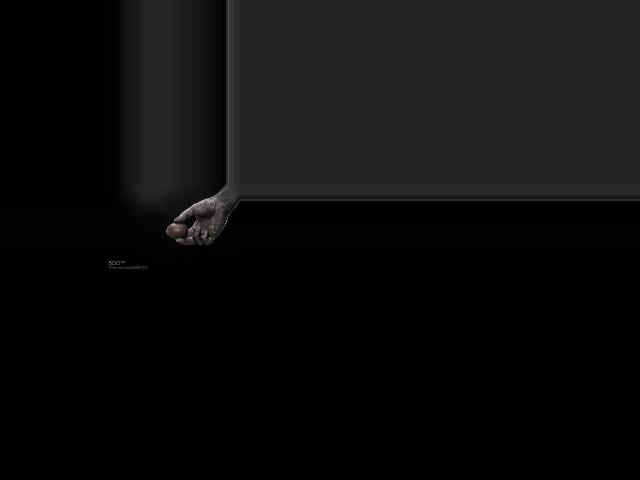egg: (167, 222, 189, 238)
